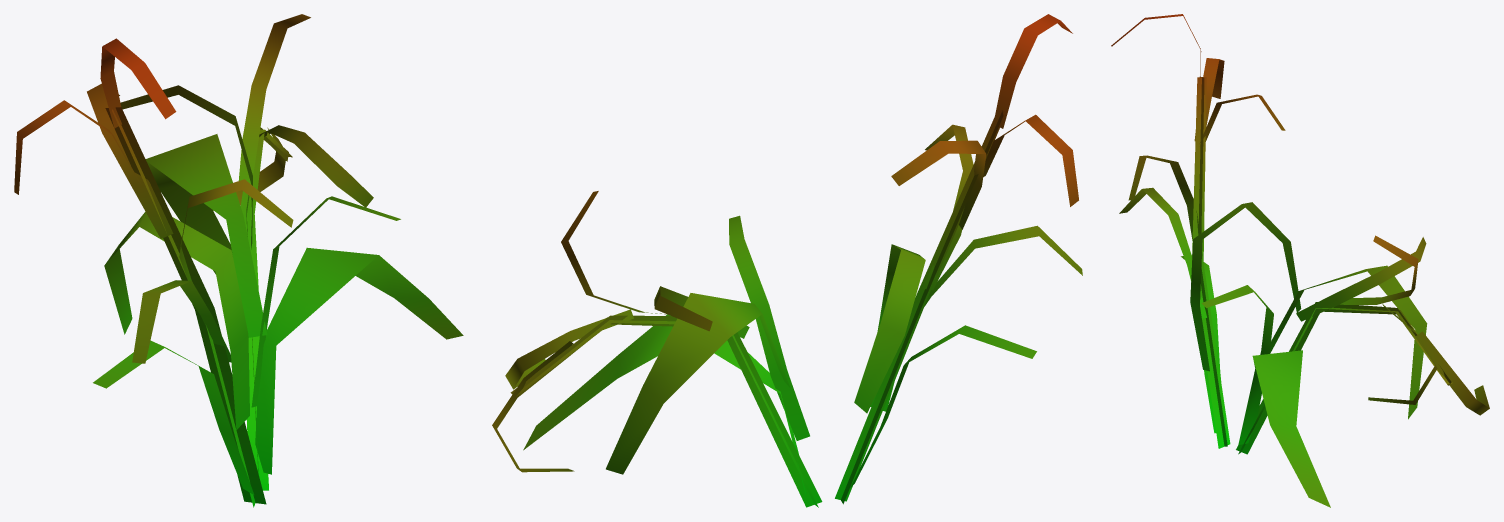
File: Great Brome_LOD3_Var4_tjugaikia.fbx
3 views of the same model, side by side, from view 1: azimuth 30°, elevation 25°; view 2: azimuth 150°, elevation 25°; view 3: azimuth 270°, elevation 25° (orthographic). The views are drawn at different scales.
Visible parts, largest first — view 1: _6a21_Var4_LOD3; view 2: _6a21_Var4_LOD3; view 3: _6a21_Var4_LOD3.
Part boxes in pixels (x1,y1,x2,y2): _6a21_Var4_LOD3: (14,14,463,507); _6a21_Var4_LOD3: (492,14,1082,507); _6a21_Var4_LOD3: (1111,14,1489,507).
Size of the model in its own units: 24.98 by 24.56 by 22.54.
